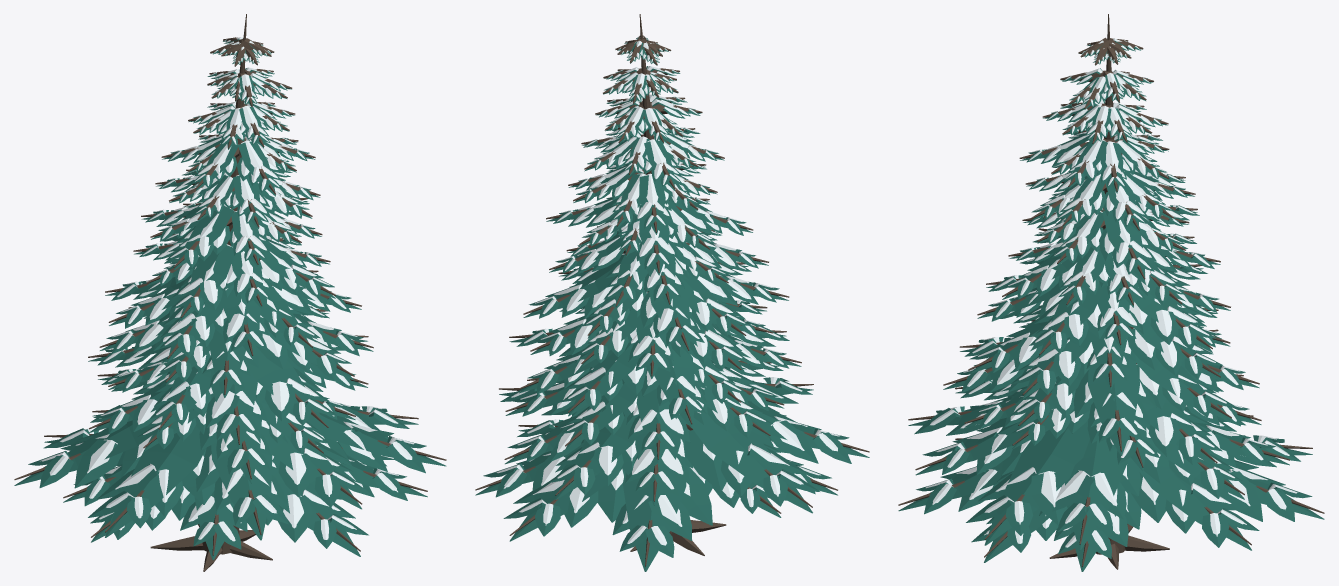
The model's file is HERO_01_AncientSnowyPine.glb.
3 views of the same model, side by side, from view 1: azimuth 30°, elevation 25°; view 2: azimuth 150°, elevation 25°; view 3: azimuth 270°, elevation 25° (orthographic). The views are drawn at different scales.
Parts seen in each view (by area): view 1: HERO_01_AncientSnowyPine; view 2: HERO_01_AncientSnowyPine; view 3: HERO_01_AncientSnowyPine.
Part boxes in pixels (x1=…): HERO_01_AncientSnowyPine: x1=14, y1=14, x2=446, y2=571; HERO_01_AncientSnowyPine: x1=475, y1=14, x2=869, y2=571; HERO_01_AncientSnowyPine: x1=898, y1=14, x2=1324, y2=571.
Bounding box in the file's own units: 11.93 × 16.56 × 11.68.
